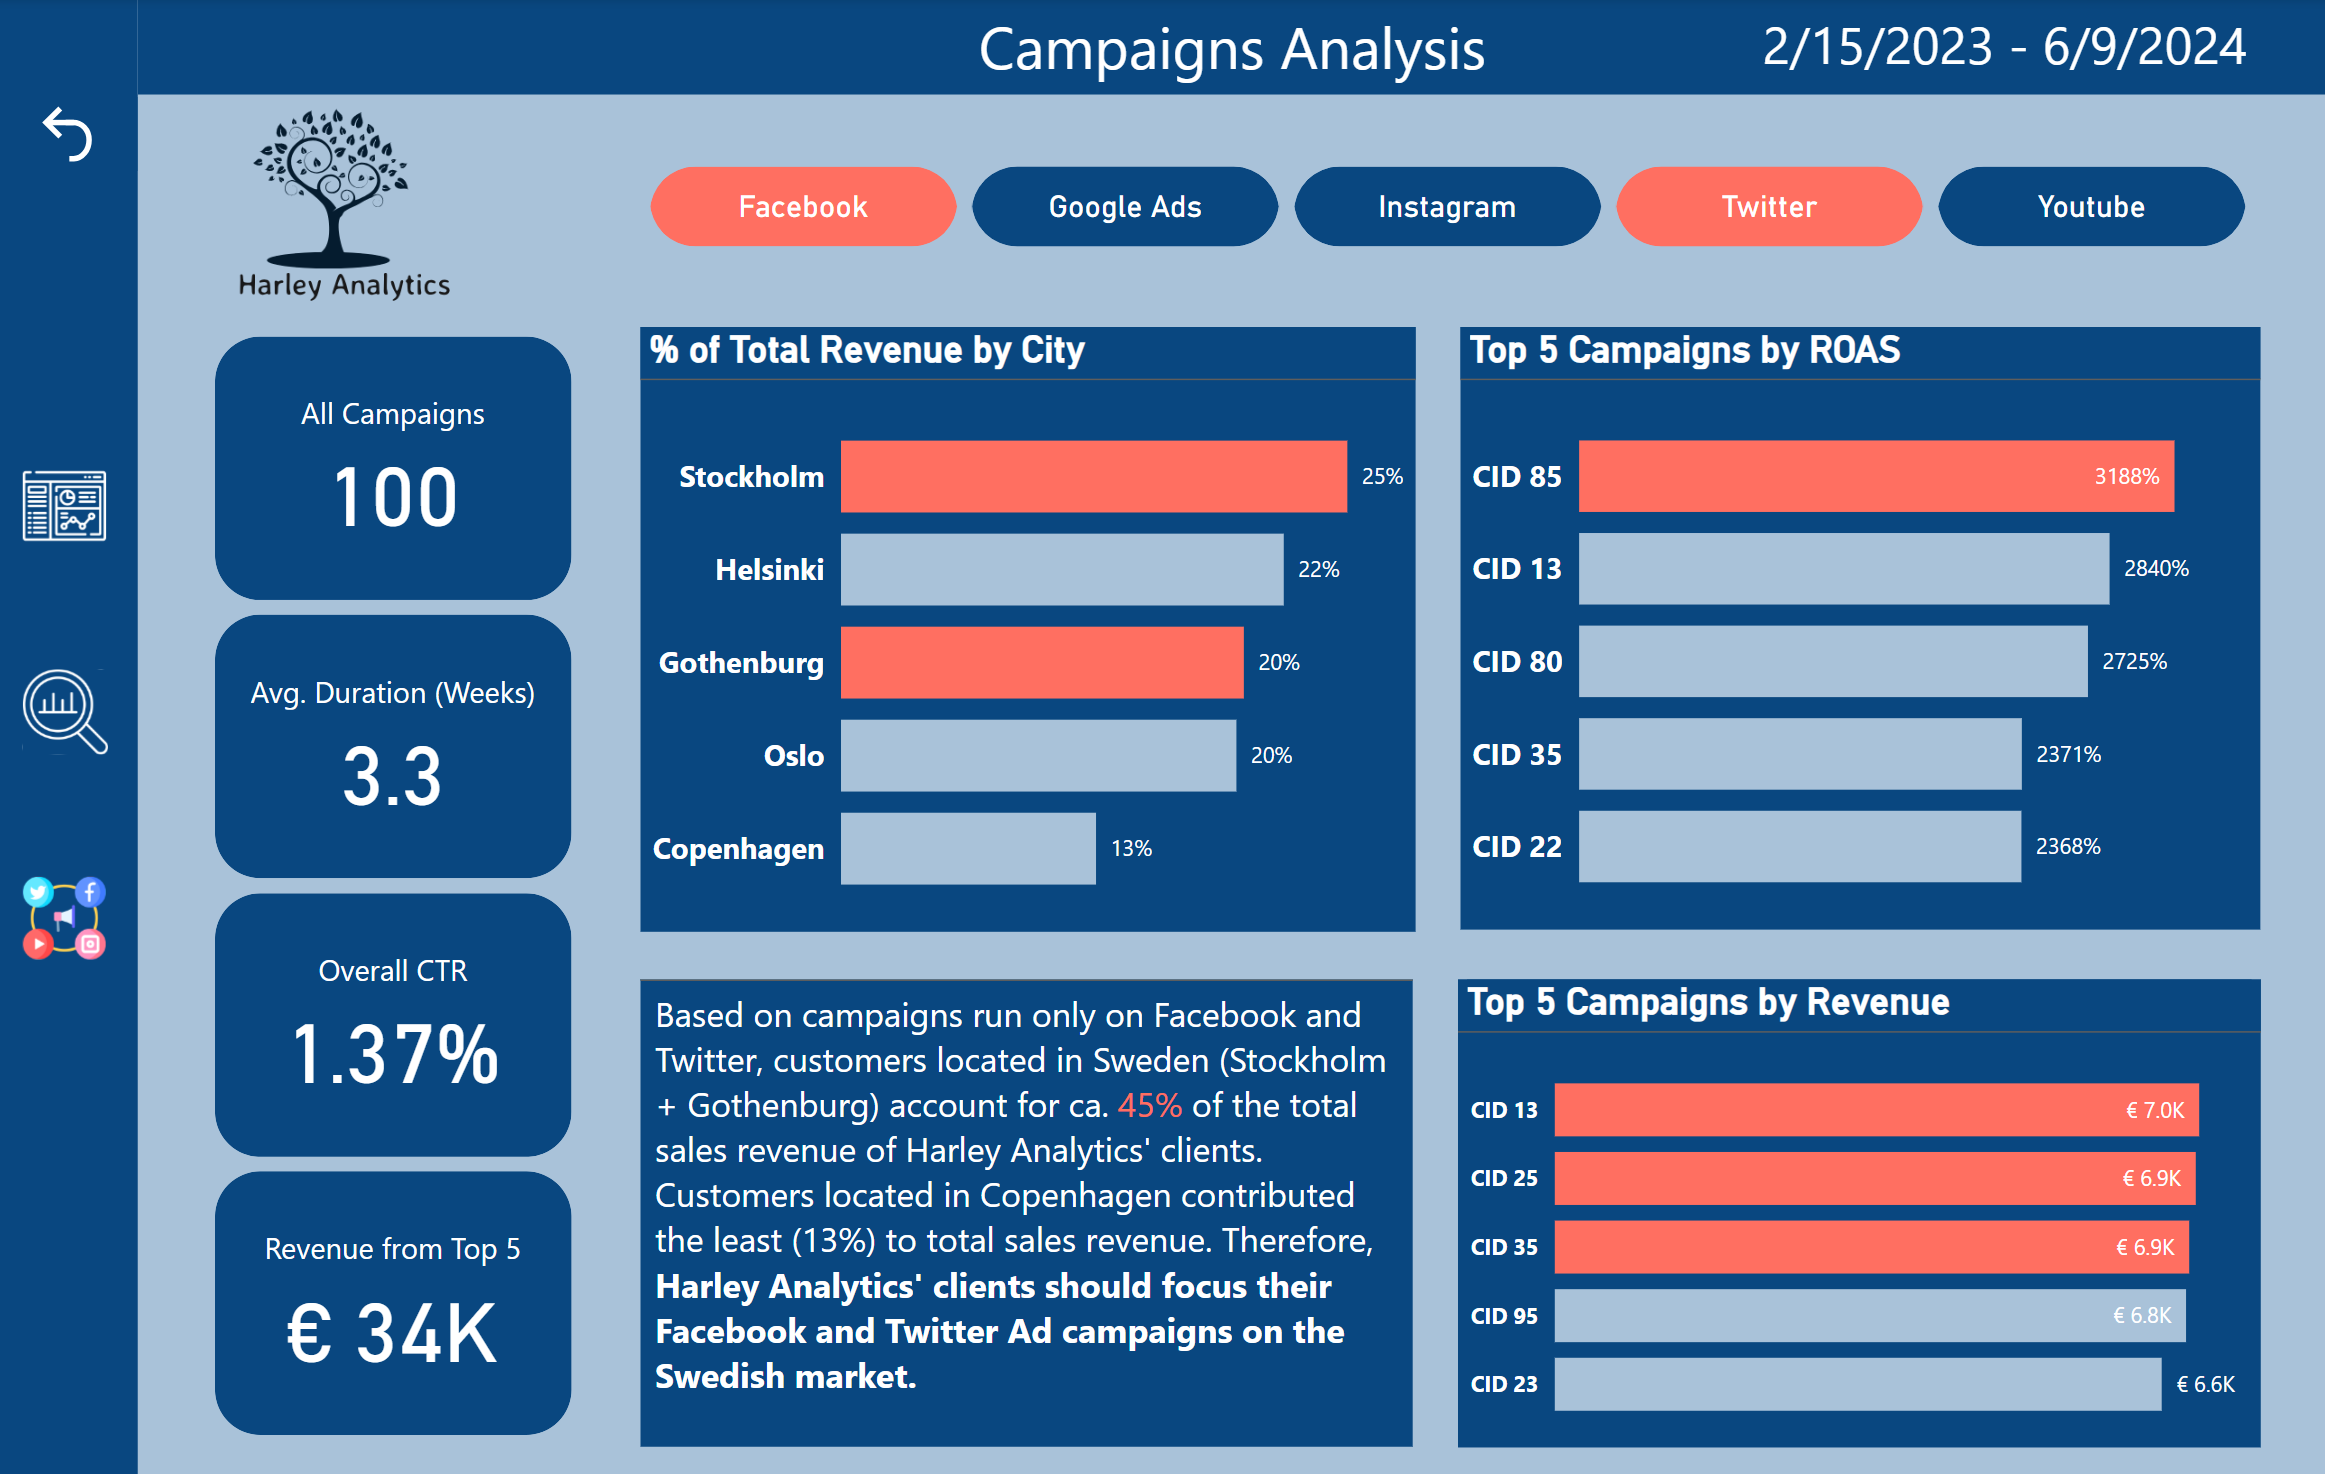

The dashboard page shown, as its layout file describes it:
{"tool":"powerbi","page":{"name":"Campaigns Analysis","canvas":[1280,820],"ordinal":2},"visuals":[{"type":"cardVisual","fields":{"Data":["CountNonNull(Marketing_data.Campaign_ID)","DAX Measures.Avg. Campaign Duration","DAX Measures.CTR","DAX Measures.Total Revenue Top10"]},"box":[114,181.4,206.1,614.2],"z":0},{"type":"barChart","title":"Top 5 Campaigns by ROAS","fields":{"Category":["Marketing_data.Campaign_ID"],"Y":["DAX Measures.Overall ROAS"]},"box":[803.8,181.4,439.7,331.1],"z":1000},{"type":"advancedSlicerVisual","fields":{"Values":["Marketing_data.Platform"]},"box":[353.1,87.9,890.4,55],"z":2000},{"type":"shape","title":"Sidebar","box":[0,0,76.9,820.3],"z":3000},{"type":"barChart","title":"Top 5 Campaigns by Revenue","fields":{"Category":["Marketing_data.Campaign_ID"],"Y":["DAX Measures.Top 10 Campaigns Revenue"]},"box":[802.4,540.3,441.2,257.3],"z":4000},{"type":"textbox","box":[76.6,0,1203.1,53.5],"z":5000},{"type":"barChart","fields":{"Y":["DAX Measures.Total Revenue"],"Category":["Marketing_data.City"]},"box":[343.5,181.4,435.6,332.5],"z":6000},{"type":"actionButton","box":[0,54.9,76.6,40.5],"z":7000},{"type":"card","title":"End date","fields":{"Values":["DAX Measures.Date Interval"]},"box":[926.6,0,353.4,52.9],"z":8000},{"type":"image","title":"Company Logo","box":[114,52.2,153.9,123.7],"z":9000},{"type":"textbox","box":[343.5,540,434.2,256.9],"z":10000},{"type":"actionButton","title":"Campaigns Button","box":[10.1,479.5,64.6,53.6],"z":11000},{"type":"actionButton","title":"Insights button","box":[10.1,365.8,64.6,55],"z":12000},{"type":"actionButton","title":"Platform Button","box":[10,253.2,64.8,53.8],"z":13000}]}

Visuals, with their boxes in screenshot pixels (x1, y1, x2, y2), scaled from the page's 1280x820 canvas onto the 2325x1474 screenshot:
cardVisual - CountNonNull(Marketing_data.Campaign_ID) x DAX Measures.Avg. Campaign Duration: [207,326,581,1430]
"Top 5 Campaigns by ROAS" barChart: [1460,326,2259,921]
advancedSlicerVisual - Marketing_data.Platform: [641,158,2259,257]
"Sidebar" shape: [0,0,140,1473]
"Top 5 Campaigns by Revenue" barChart: [1457,971,2259,1434]
textbox: [139,0,2324,96]
barChart - DAX Measures.Total Revenue x Marketing_data.City: [624,326,1415,924]
actionButton: [0,99,139,171]
"End date" card: [1683,0,2324,95]
"Company Logo" image: [207,94,487,316]
textbox: [624,971,1413,1432]
"Campaigns Button" actionButton: [18,862,136,958]
"Insights button" actionButton: [18,658,136,756]
"Platform Button" actionButton: [18,455,136,552]
